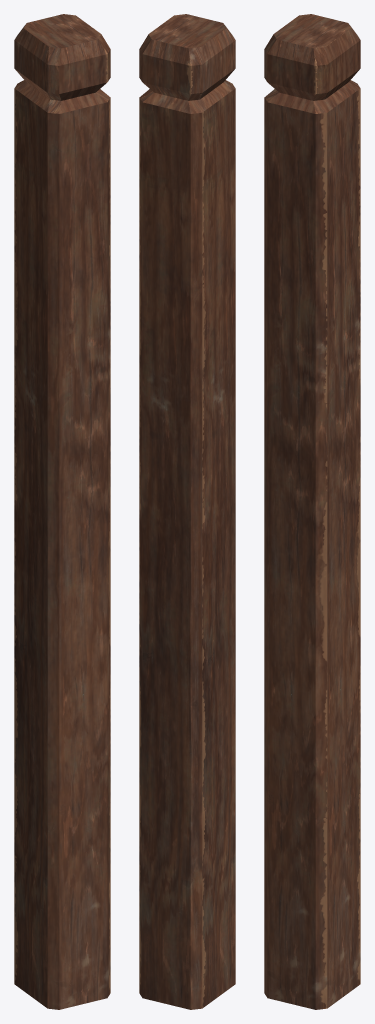
The model's file is Kit_LadderPlank_x2.fbx.
3 renders of one model, left to right at view 1: azimuth 30°, elevation 25°; view 2: azimuth 150°, elevation 25°; view 3: azimuth 330°, elevation 25°, orthographic.
Visible parts, largest first — view 1: Kit_LadderPlank_x2; view 2: Kit_LadderPlank_x2; view 3: Kit_LadderPlank_x2.
Part boxes in pixels (x1,y1,x2,y2): Kit_LadderPlank_x2: [14, 14, 110, 1009]; Kit_LadderPlank_x2: [139, 14, 235, 1009]; Kit_LadderPlank_x2: [264, 14, 360, 1009].
Bounding box in the file's own units: 7.45 × 108 × 8.56.
